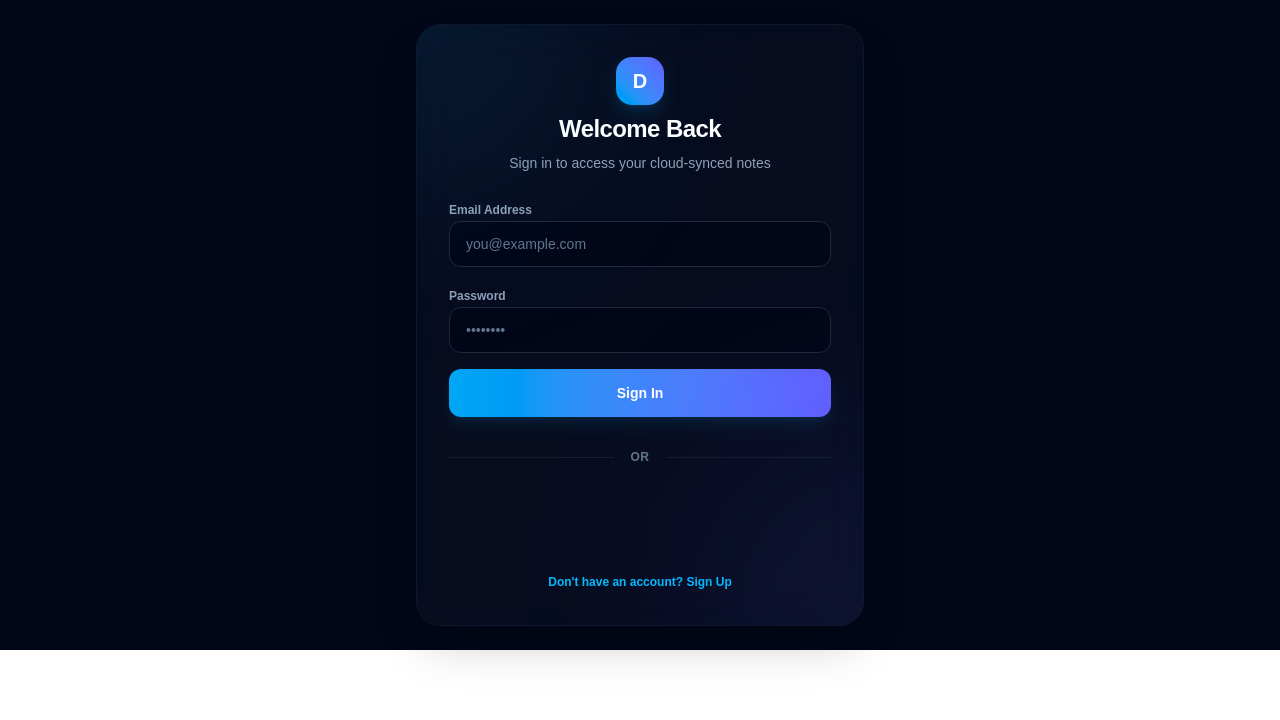
Test: AuthView › toggles to sign-up mode and shows the display name field
Step 1. Click the button "Don't have an account? Sign Up" → (640, 582), box 548,574 -> 732,590
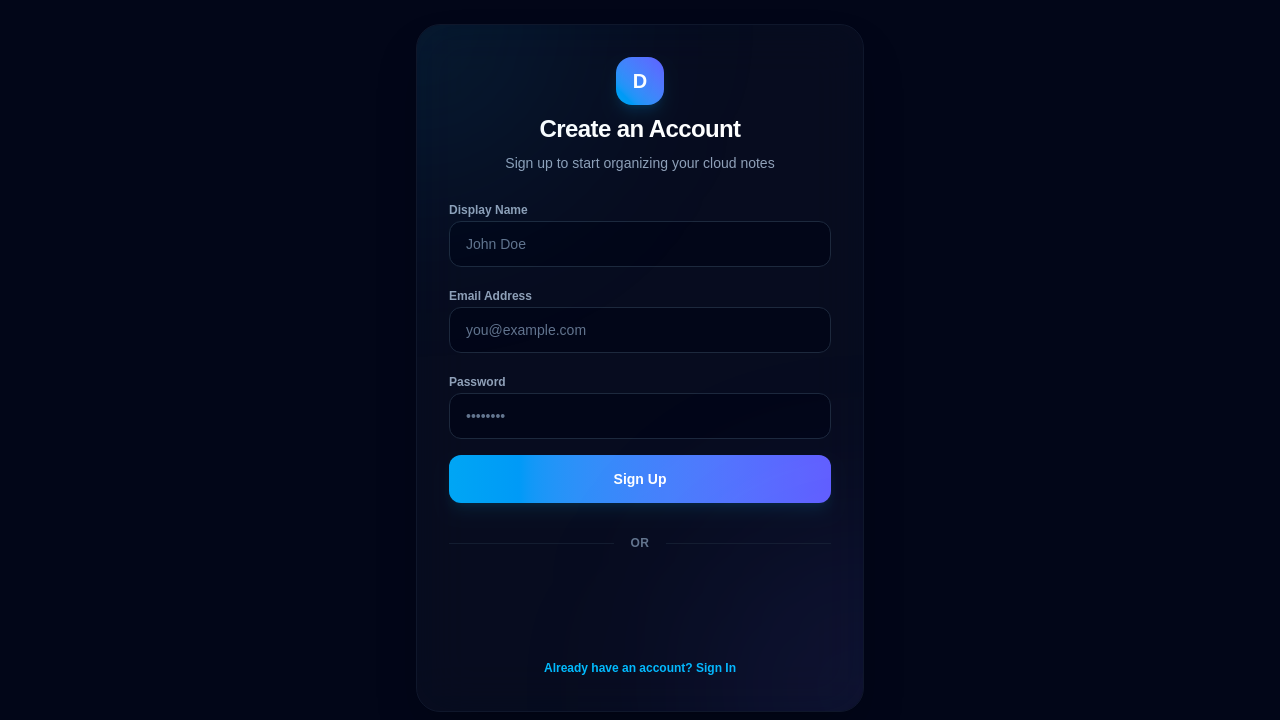
Result: the heading "Create an Account" is shown at 540,115 -> 740,142
Result: the text "Display Name" is shown at 449,203 -> 528,217
